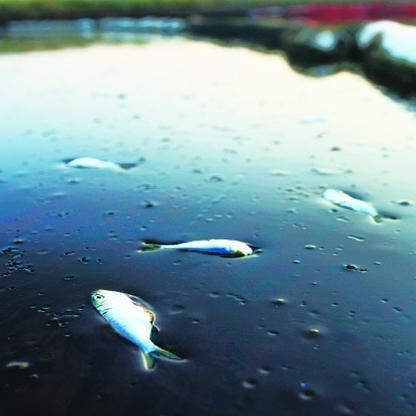deceased fish: (91, 286, 187, 368), (141, 231, 254, 262)
